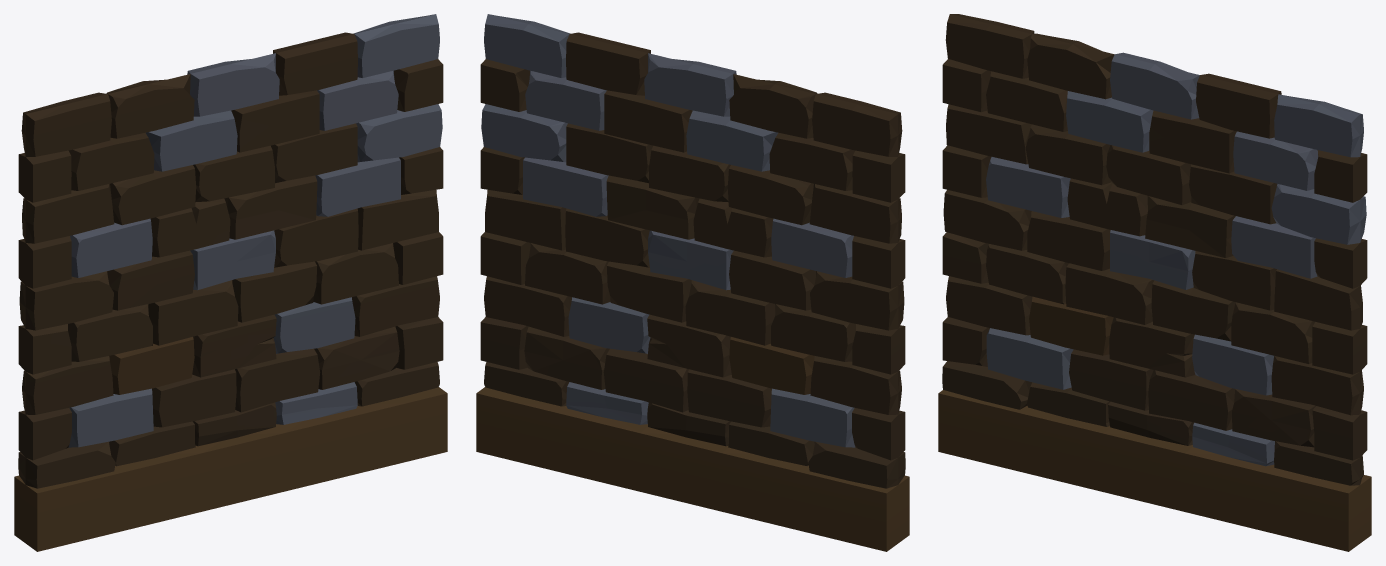
Rendered from Wall_05.fbx.
3 renders of one model, left to right at view 1: azimuth 30°, elevation 25°; view 2: azimuth 150°, elevation 25°; view 3: azimuth 330°, elevation 25°, orthographic.
Visible parts, largest first — view 1: Wall_05; view 2: Wall_05; view 3: Wall_05.
Boxes of the visible parts, <box> form: Wall_05: <box>14,14,447,551</box>; Wall_05: <box>476,14,909,551</box>; Wall_05: <box>938,14,1371,551</box>.
Bounding box in the file's own units: 4 × 4 × 0.3872.
